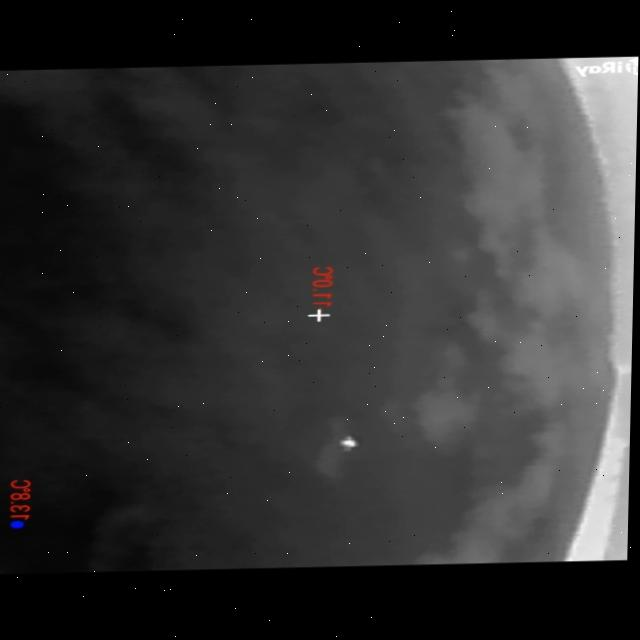drone: (335, 434, 366, 455)
